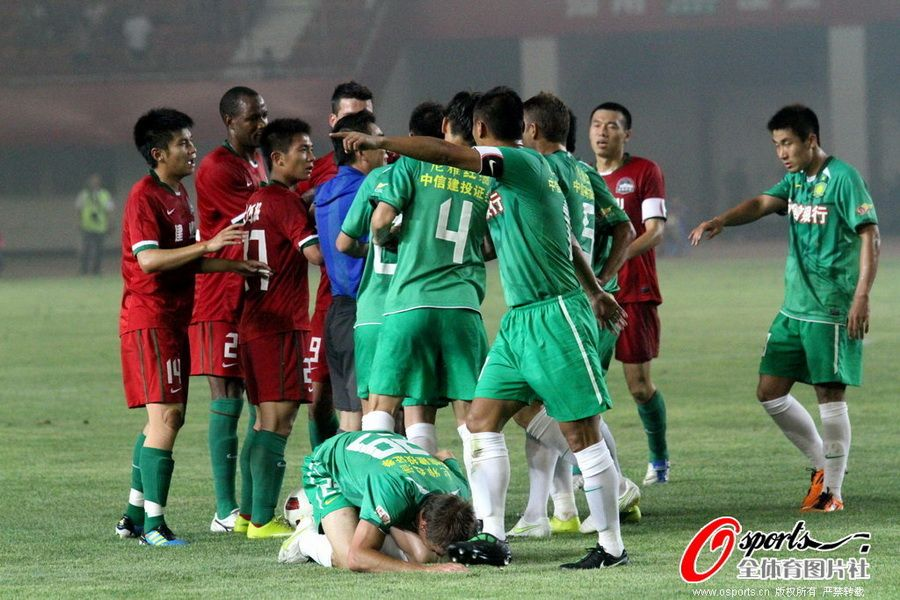10+: (67, 1, 881, 540)
down: (269, 416, 492, 576)
